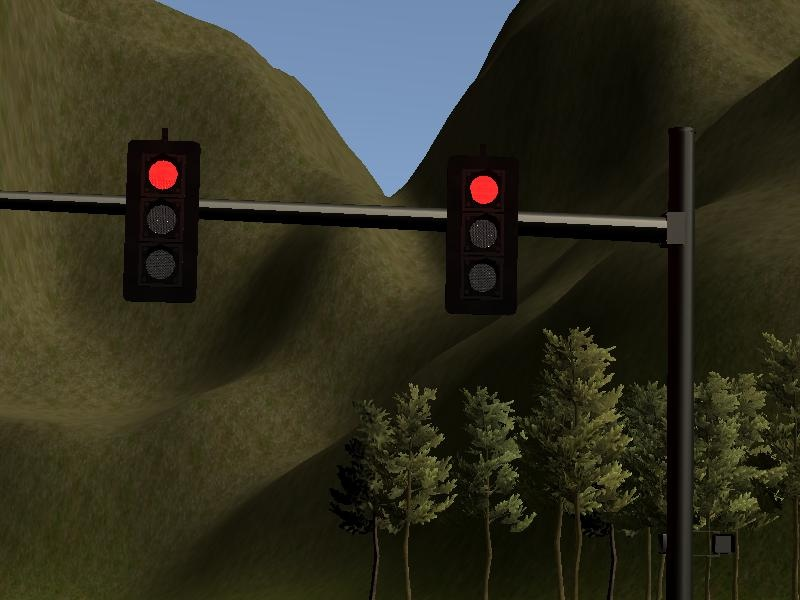red: (116, 133, 208, 310), (440, 149, 522, 328)
